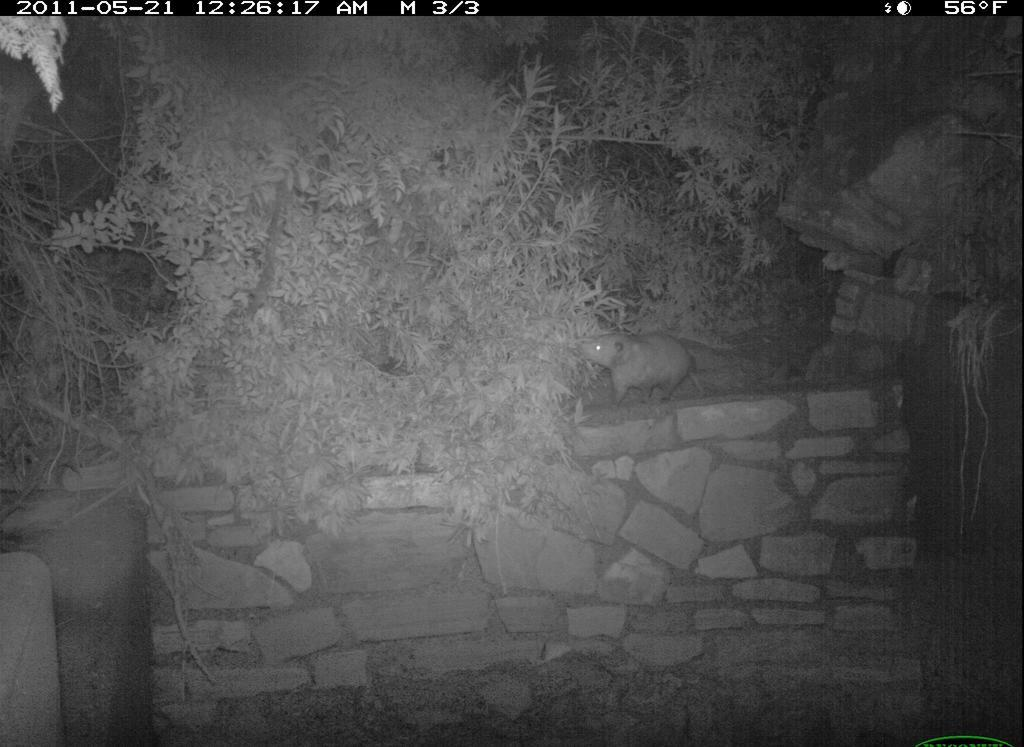opossum: (575, 322, 713, 413)
